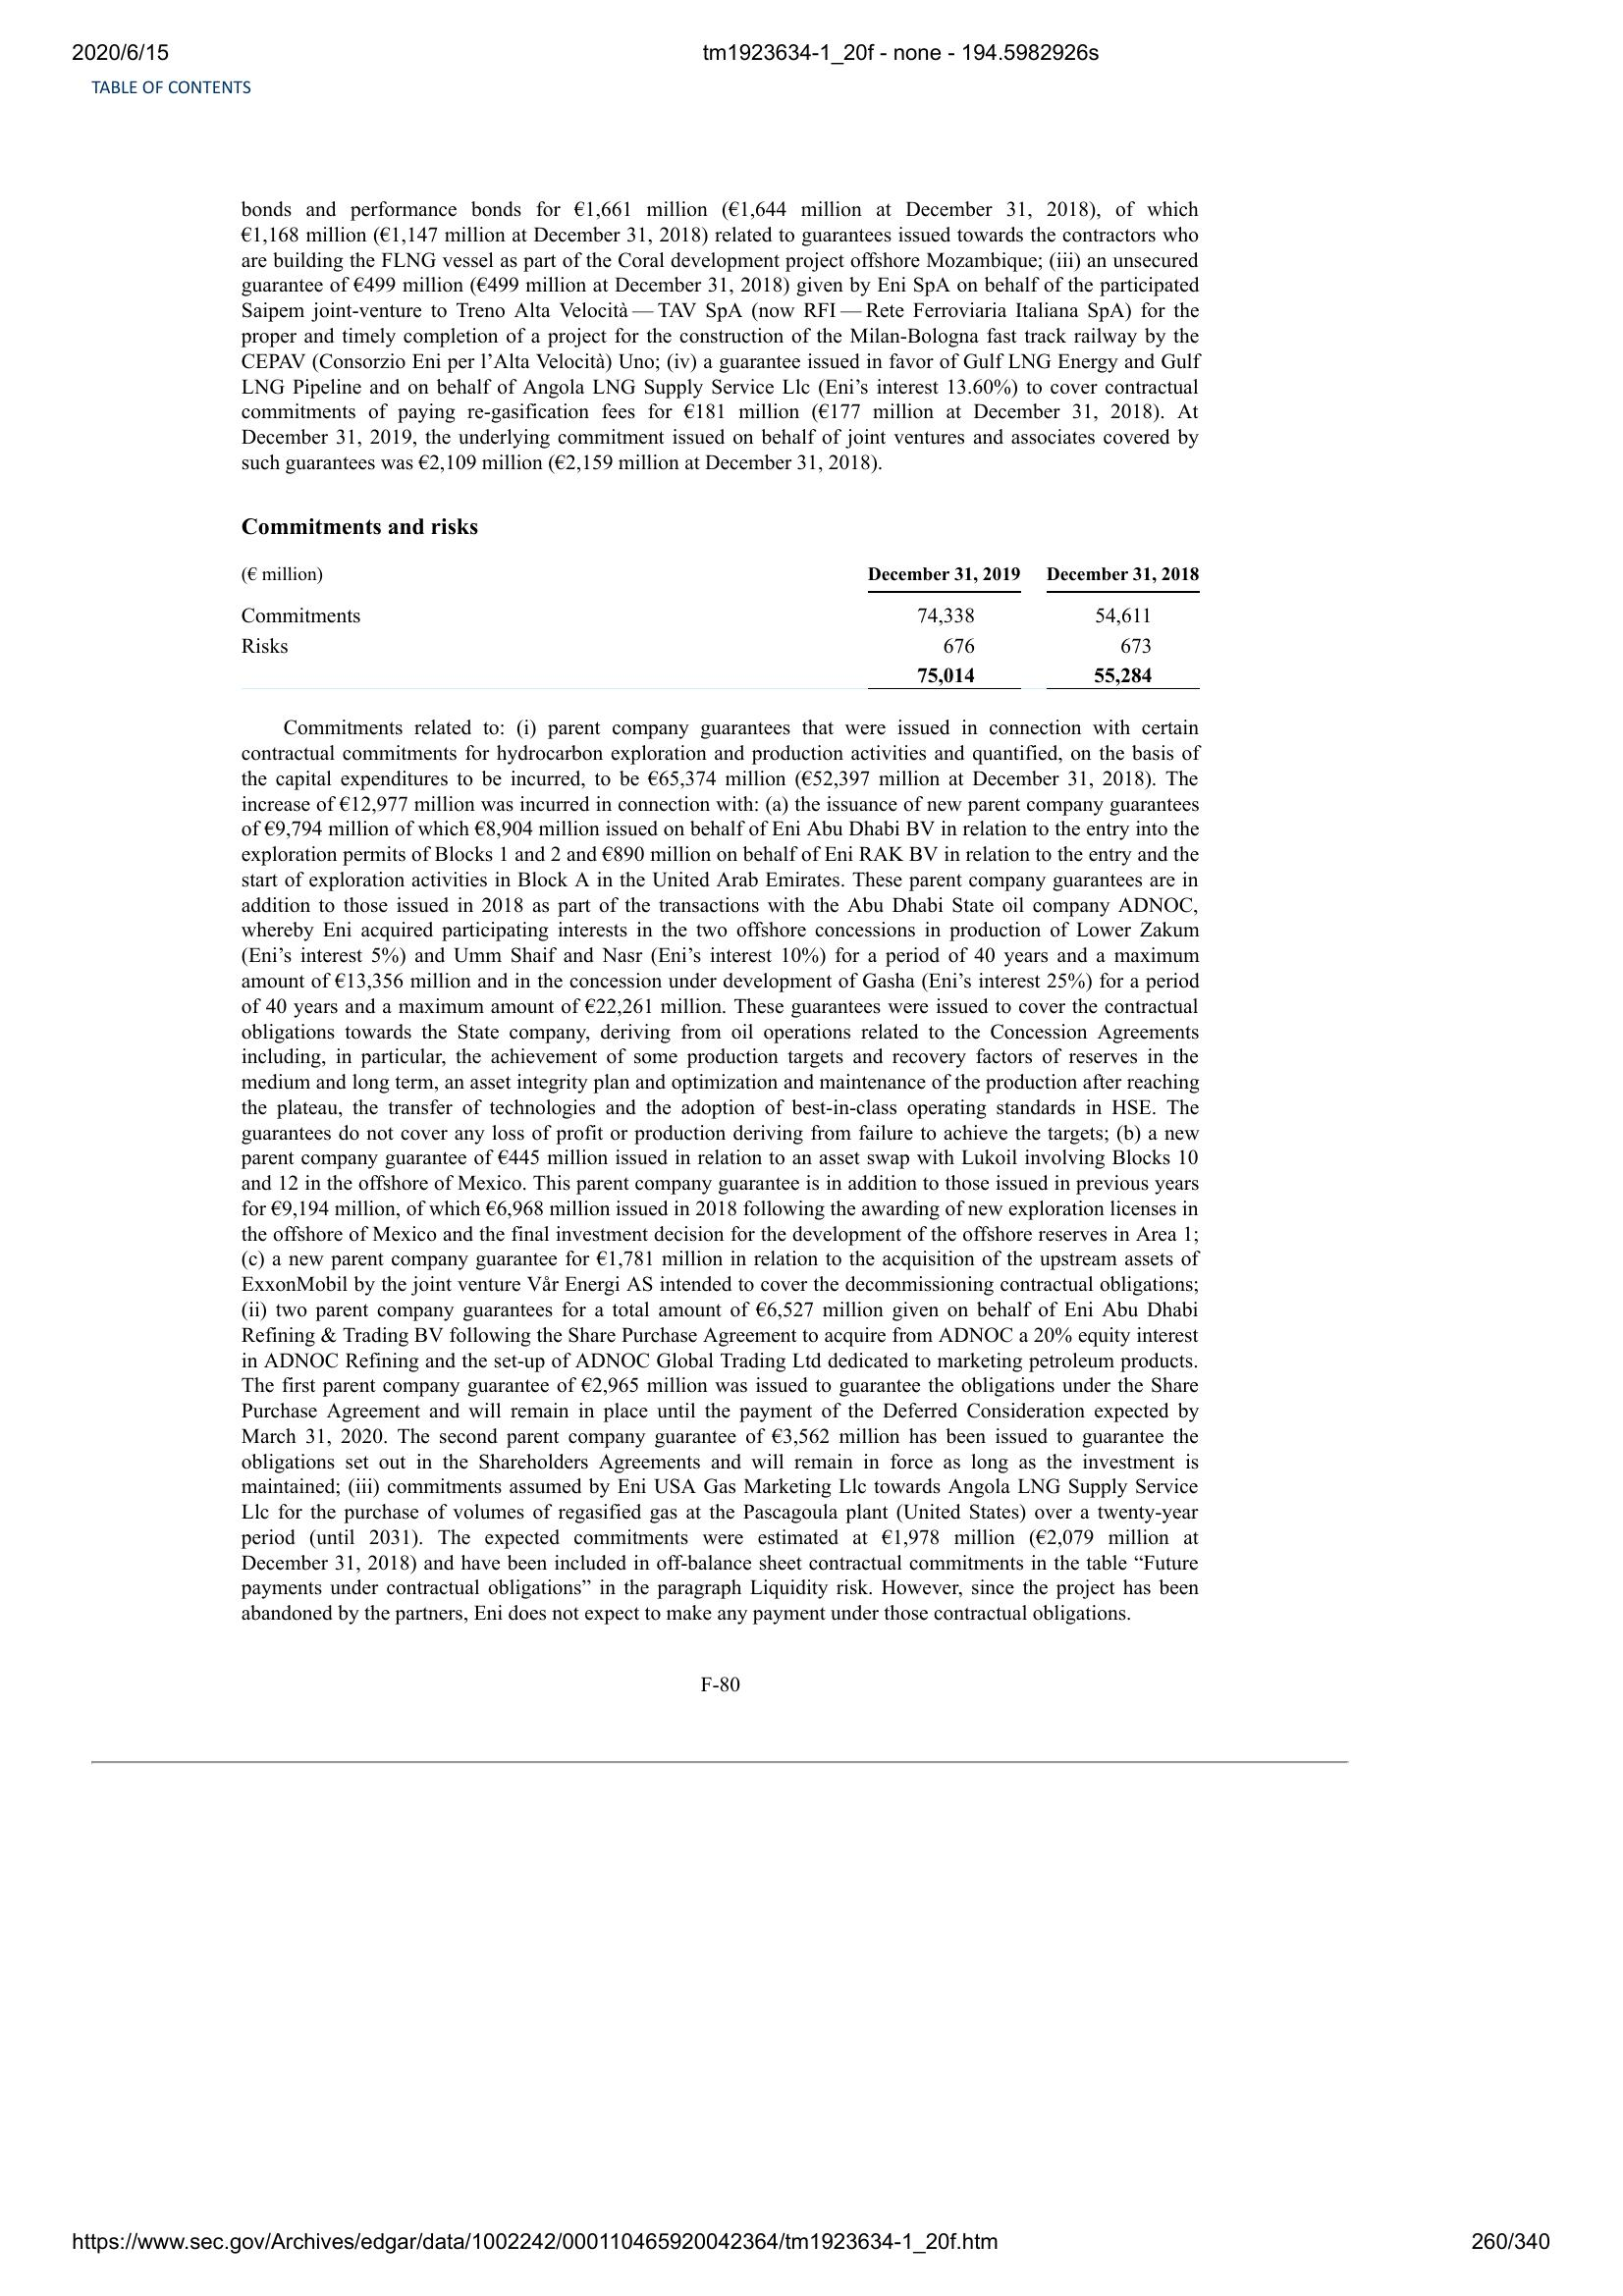table: (242, 555, 1203, 693)
